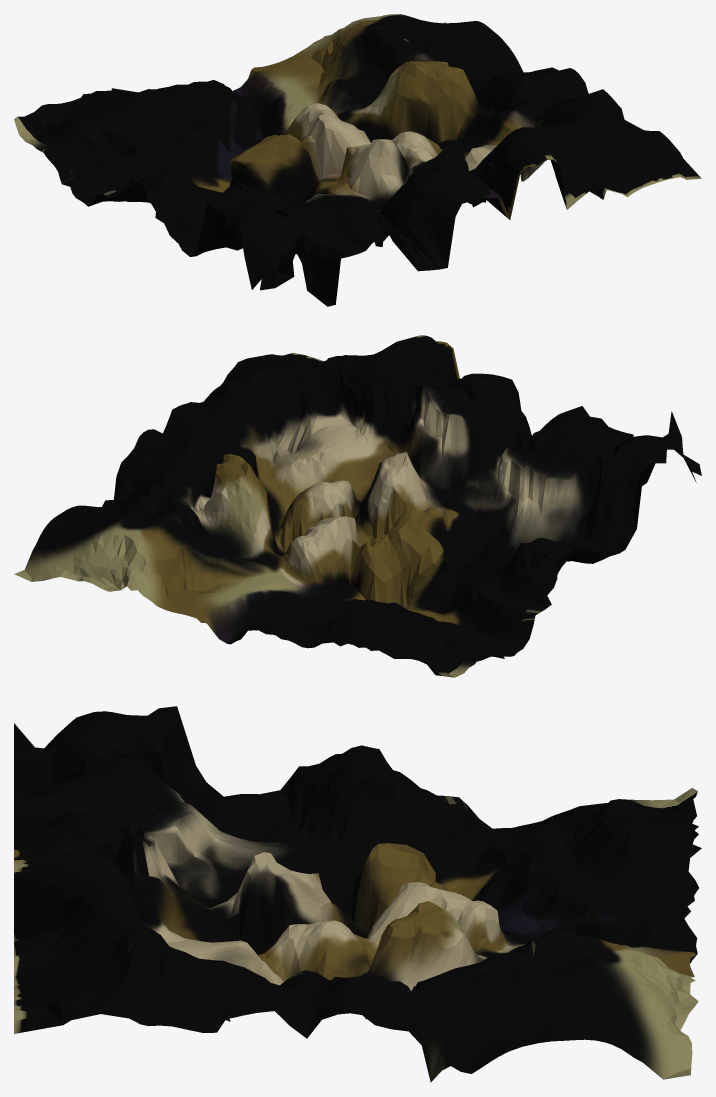
The model's file is TM15_Terrain.fbx.
3 views of the same model, one above another, from view 1: azimuth 30°, elevation 25°; view 2: azimuth 150°, elevation 25°; view 3: azimuth 270°, elevation 25° (orthographic). The views are drawn at different scales.
Visible parts, largest first — view 1: TM15.SideMine, TM15.NewMine, TM15.EndMine, TM15.MineShortcut, TM15.DiamondMine, TM15.TwinsMine, TM15.MiddleMine; view 2: TM15.SideMine, TM15.TwinsMine, TM15.EndMine, TM15.MineShortcut, TM15.DiamondMine, TM15.NewMine, TM15.MiddleMine; view 3: TM15.SideMine, TM15.EndMine, TM15.MiddleMine, TM15.NewMine, TM15.MineShortcut, TM15.DiamondMine, TM15.TwinsMine.
Part boxes in pixels (bbox=[...]): TM15.SideMine: bbox=[156, 40, 701, 267]; TM15.NewMine: bbox=[14, 76, 270, 193]; TM15.EndMine: bbox=[179, 194, 447, 306]; TM15.MineShortcut: bbox=[248, 14, 502, 136]; TM15.DiamondMine: bbox=[215, 103, 408, 208]; TM15.TwinsMine: bbox=[340, 54, 558, 181]; TM15.MiddleMine: bbox=[72, 147, 301, 244]; TM15.SideMine: bbox=[72, 335, 524, 648]; TM15.TwinsMine: bbox=[175, 378, 399, 562]; TM15.EndMine: bbox=[441, 406, 701, 556]; TM15.MineShortcut: bbox=[14, 495, 345, 630]; TM15.DiamondMine: bbox=[265, 452, 465, 612]; TM15.NewMine: bbox=[212, 599, 508, 677]; TM15.MiddleMine: bbox=[414, 536, 608, 656]; TM15.SideMine: bbox=[14, 811, 698, 1082]; TM15.EndMine: bbox=[14, 706, 289, 899]; TM15.MiddleMine: bbox=[255, 745, 530, 929]; TM15.NewMine: bbox=[506, 788, 701, 963]; TM15.MineShortcut: bbox=[489, 924, 698, 1079]; TM15.DiamondMine: bbox=[191, 843, 518, 958]; TM15.TwinsMine: bbox=[134, 892, 489, 1021].
Size of the model in its own units: 33054 by 9701 by 34035.
1 material, 1 textured.
